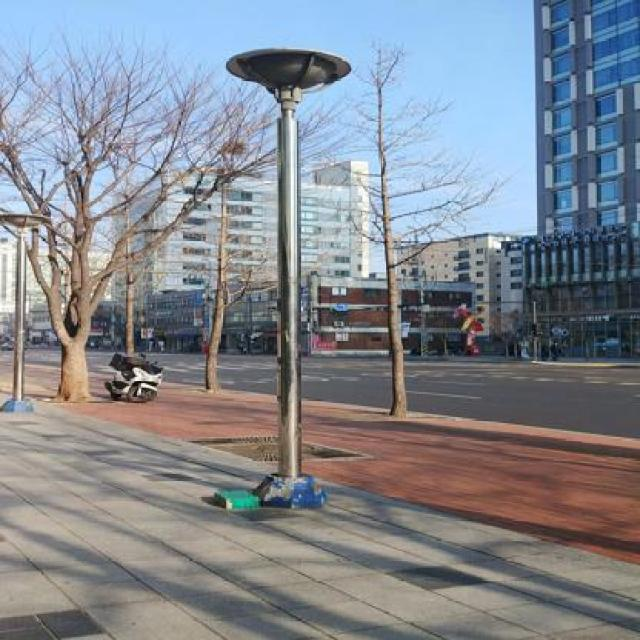pole: (250, 107, 323, 514)
